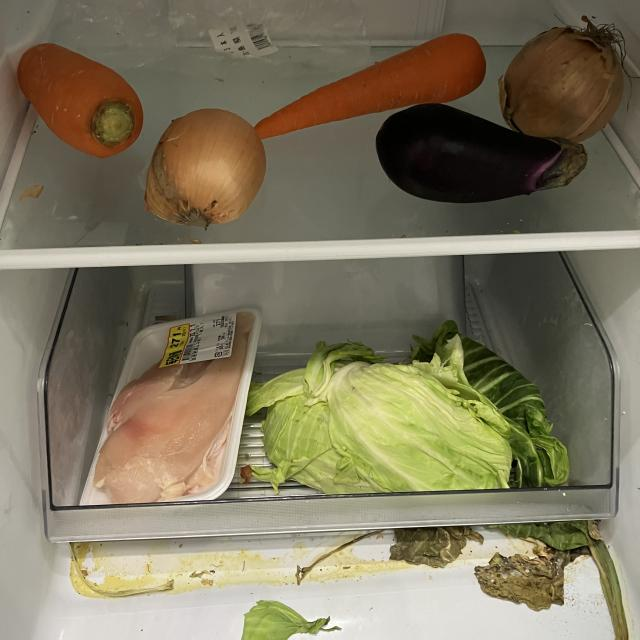cabbage: (263, 321, 574, 502)
carrot: (250, 32, 491, 137), (14, 39, 148, 161)
eggplant: (376, 101, 592, 210)
onion: (499, 16, 638, 148), (142, 107, 270, 232)
